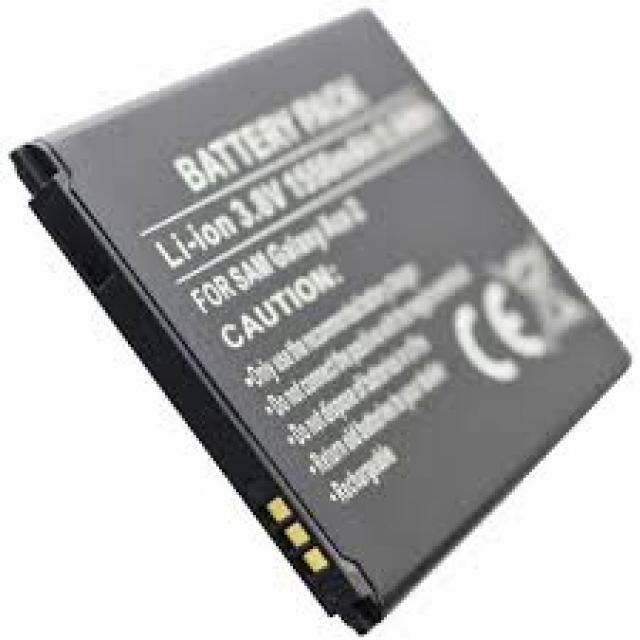non-organic waste: (11, 2, 632, 630)
